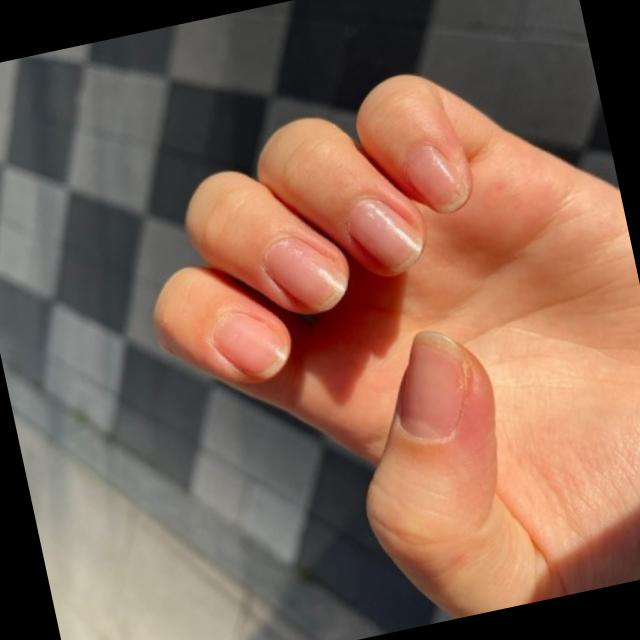Nail: (263, 236, 349, 311), (399, 334, 461, 434), (347, 194, 424, 264), (213, 311, 288, 378), (401, 141, 470, 212)
